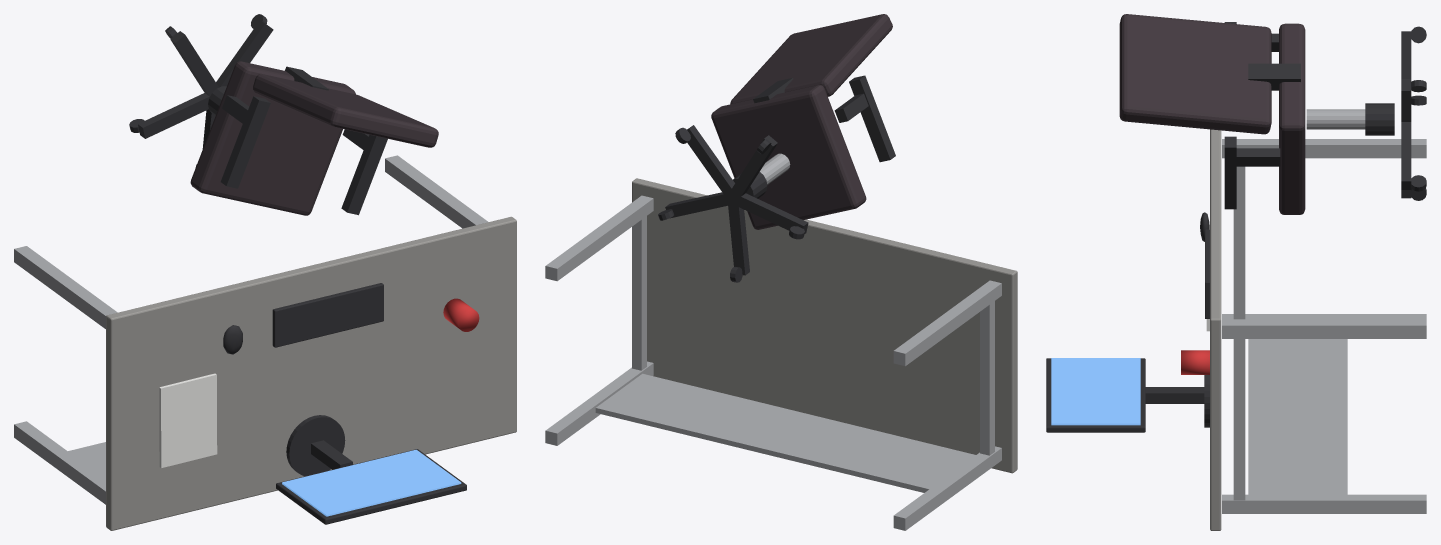
The model's file is podA_workstation1.glb.
3 renders of one model, left to right at view 1: azimuth 30°, elevation 25°; view 2: azimuth 150°, elevation 25°; view 3: azimuth 270°, elevation 25°, orthographic. The views are drawn at different scales.
Parts seen in each view (by area): view 1: podA_desk1_top, podA_chair1_seat, podA_mon1_screen, podA_chair1_back, podA_clut1_papers, podA_clut1_keyboard, podA_desk1_leg.002, podA_desk1_leg.003, podA_desk1_leg, podA_mon1_base, podA_mon1_panel, podA_chair1_arm (+7 smaller); view 2: podA_desk1_top, podA_desk1_modesty, podA_chair1_seat, podA_chair1_back, podA_desk1_leg, podA_desk1_leg.002, podA_desk1_leg.003, podA_desk1_rail, podA_desk1_rail.001, podA_desk1_leg.001, podA_chair1_arm, podA_chair1_spoke1 (+6 smaller); view 3: podA_chair1_back, podA_desk1_modesty, podA_mon1_screen, podA_desk1_top, podA_chair1_seat, podA_desk1_leg, podA_desk1_leg.001, podA_desk1_leg.002, podA_desk1_rail, podA_desk1_rail.001, podA_mon1_panel, podA_chair1_column (+11 smaller).
Boxes of the visible parts, x1,y1,x2,y2 form: podA_desk1_top: (106,216,516,530); podA_chair1_seat: (190,61,355,215); podA_mon1_screen: (282,449,461,516); podA_chair1_back: (253,74,438,147); podA_clut1_papers: (159,373,217,468); podA_clut1_keyboard: (272,283,383,347); podA_desk1_leg.002: (14,246,117,328); podA_desk1_leg.003: (14,421,105,504); podA_desk1_leg: (385,155,488,228); podA_mon1_base: (286,415,345,476); podA_mon1_panel: (276,449,466,524); podA_chair1_arm: (220,96,270,188); podA_desk1_top: (632,178,1017,473); podA_desk1_modesty: (595,373,975,492); podA_chair1_seat: (711,85,866,229); podA_chair1_back: (730,14,892,104); podA_desk1_leg: (545,195,653,281); podA_desk1_leg.002: (893,280,1001,366); podA_desk1_leg.003: (893,446,1001,530); podA_desk1_rail: (632,216,646,370); podA_desk1_rail.001: (980,301,994,455); podA_desk1_leg.001: (545,361,653,445); podA_chair1_arm: (849,75,895,162); podA_chair1_spoke1: (687,125,736,197); podA_chair1_back: (1119,14,1271,134); podA_desk1_modesty: (1248,339,1347,494); podA_mon1_screen: (1051,358,1140,425); podA_desk1_top: (1210,129,1221,530); podA_chair1_seat: (1279,23,1305,214); podA_desk1_leg: (1222,319,1426,338); podA_desk1_leg.001: (1222,494,1426,513); podA_desk1_leg.002: (1222,139,1426,158); podA_desk1_rail: (1233,339,1245,500); podA_desk1_rail.001: (1233,166,1245,319); podA_mon1_panel: (1046,358,1145,432); podA_chair1_column: (1306,109,1365,129).
Bounding box in the file's own units: 1.6 × 1.54 × 1.3.
